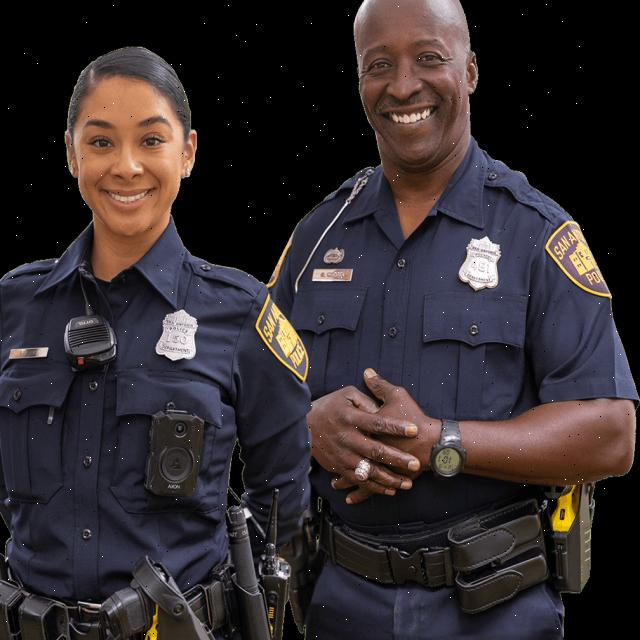police: (294, 0, 640, 640), (0, 52, 310, 639)
